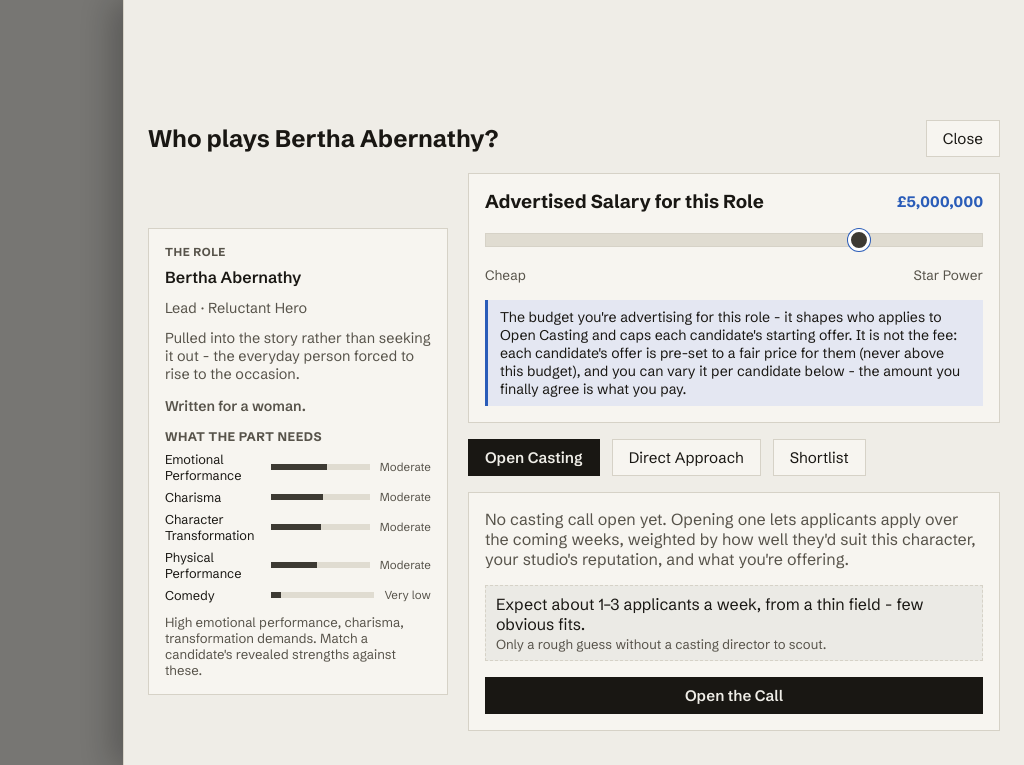
Test: CastingDrawer - waiting for a booked actor (Phase 6) › offers to wait for a booked actor, which delays the shoot and frees them to be cast
The image size is (1024, 765).
Step 1. Click the button "Direct Approach" → (686, 458), box 612,439 -> 761,476
(page scrolled)
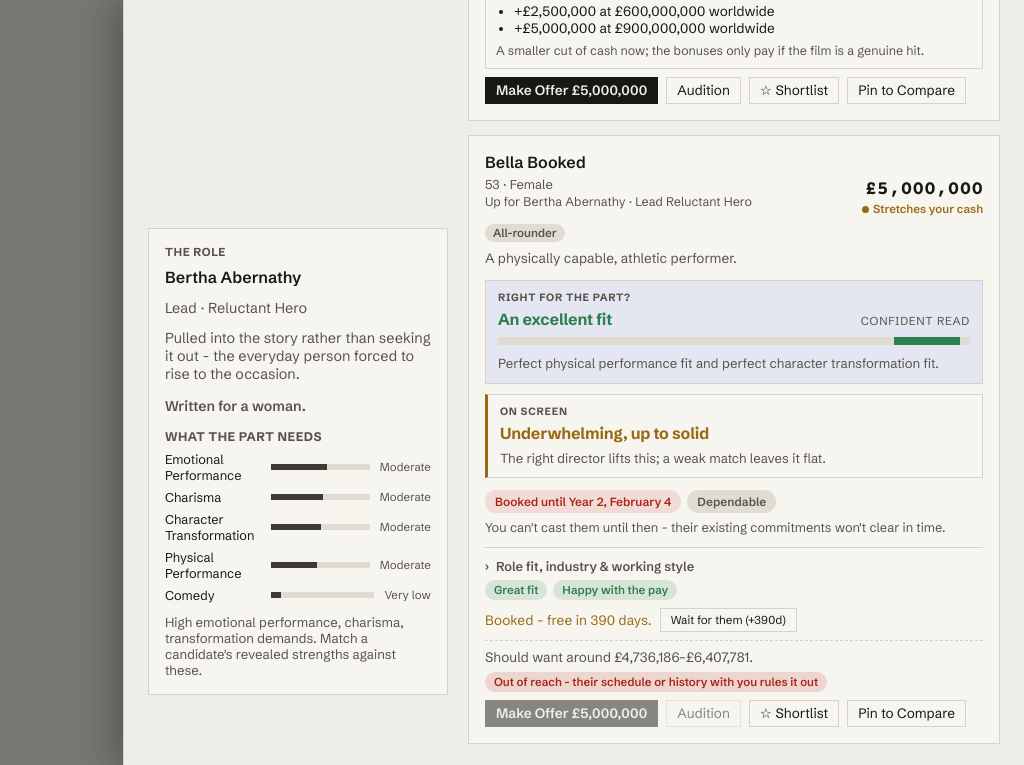
Step 2. Click the button "Wait for them (+390d)" → (728, 620), box 660,608 -> 797,632
(page scrolled)
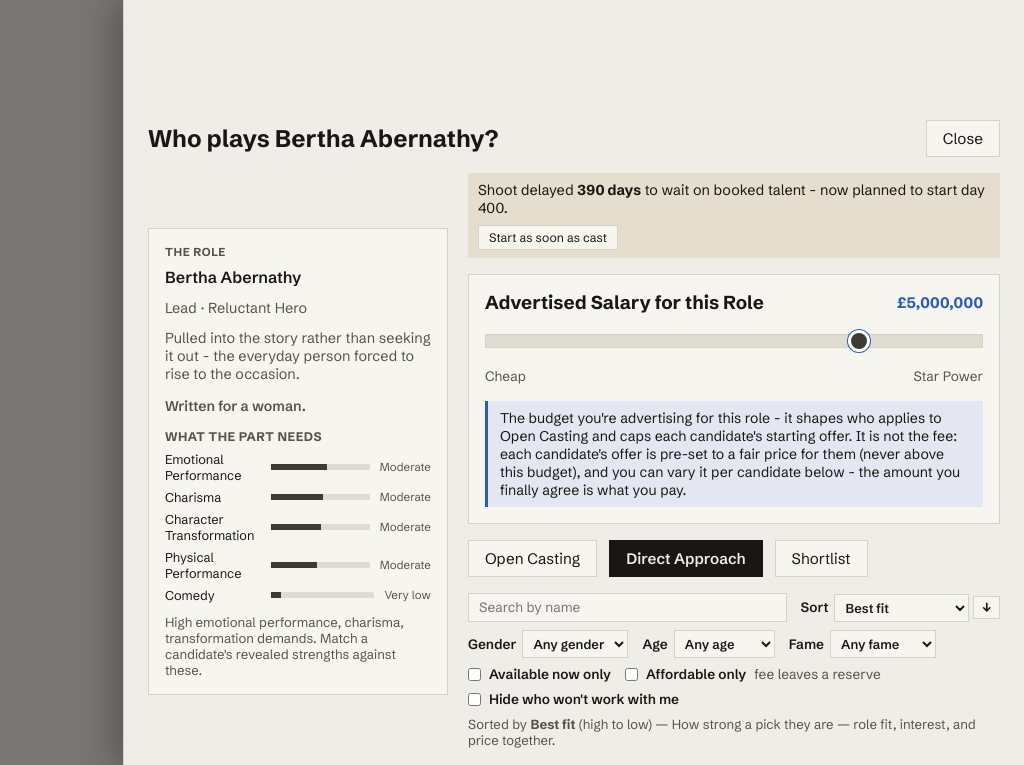
Now the text "Shoot delayed" is shown, box 478,181 -> 577,199
Now the button "Wait for them" is gone
// Resetting the delay puts the wait decision back.
Step 3. Click the button "Start as soon as cast" → (548, 238), box 478,225 -> 618,250
(page scrolled)
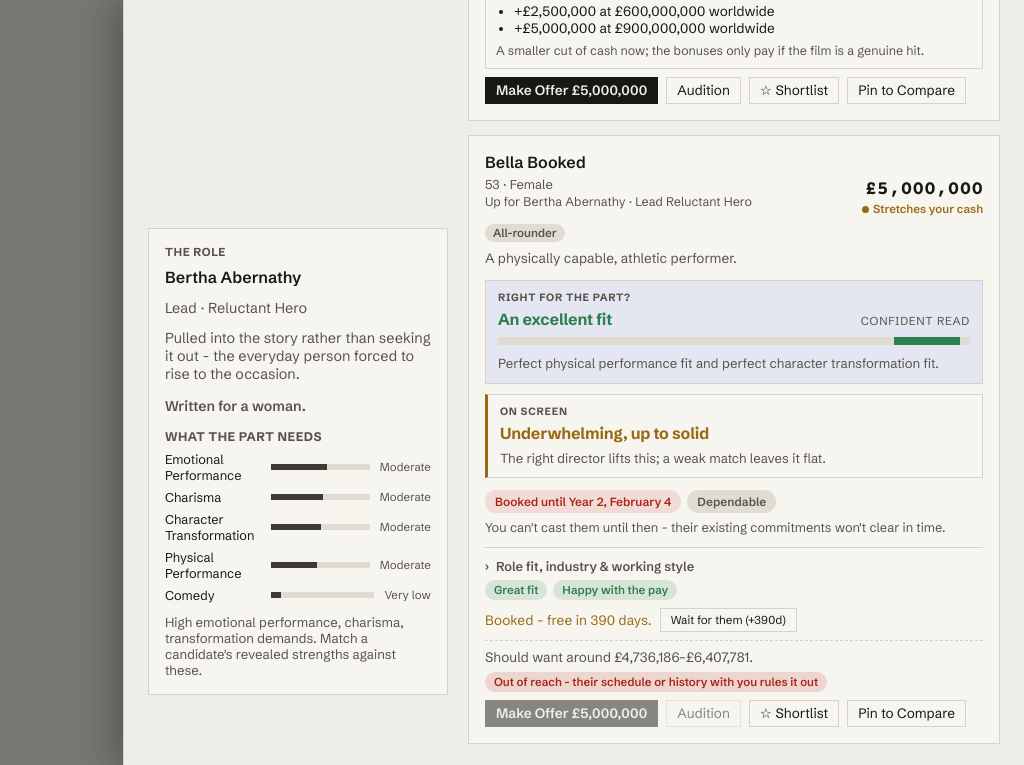
Now the button "Wait for them (+390d)" is shown, box 660,608 -> 797,632
